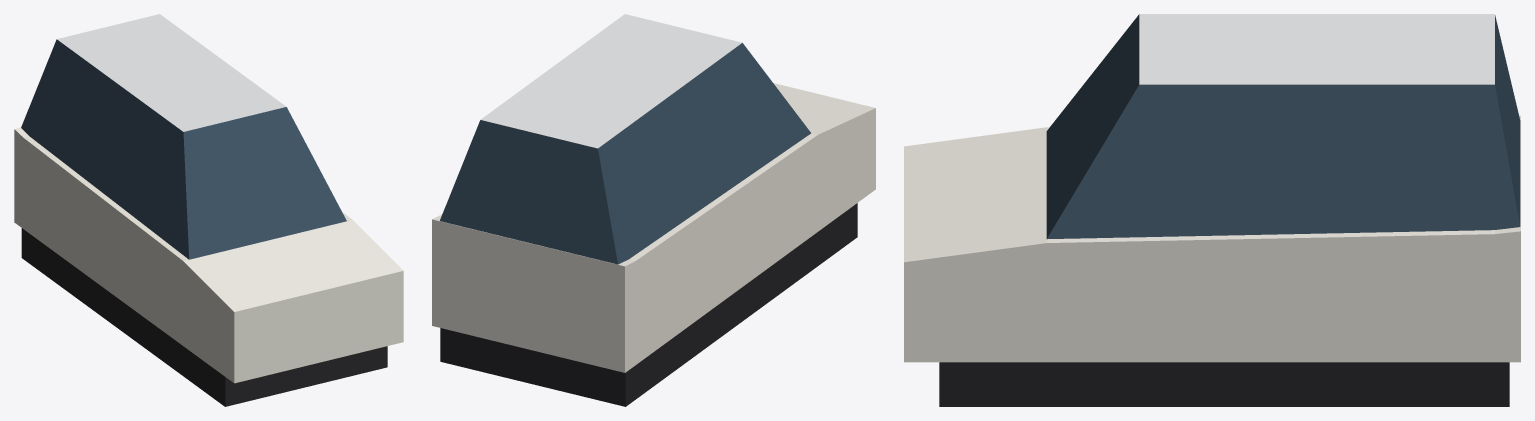
Rendered from 3_far.fbx.
The picture shows the model from 3 angles, left to right: view 1: azimuth 30°, elevation 25°; view 2: azimuth 150°, elevation 25°; view 3: azimuth 270°, elevation 25°; orthographic projection. The views are drawn at different scales.
Visible parts, largest first — view 1: 10_3_far; view 2: 10_3_far; view 3: 10_3_far.
Boxes of the visible parts, box(x1,y1,x2,y2) form: 10_3_far: box(14, 14, 403, 406); 10_3_far: box(432, 14, 875, 406); 10_3_far: box(904, 14, 1520, 406).
Size of the model in its own units: 1.48 by 1.8 by 3.33.
